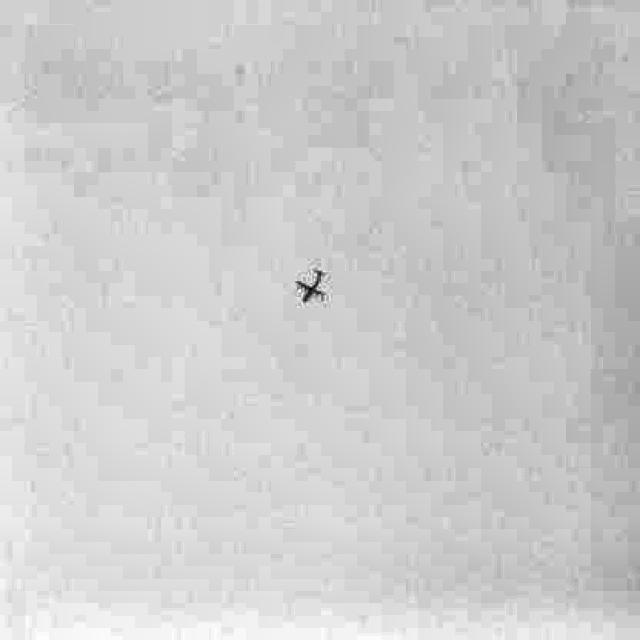US2: (296, 268, 326, 304)
